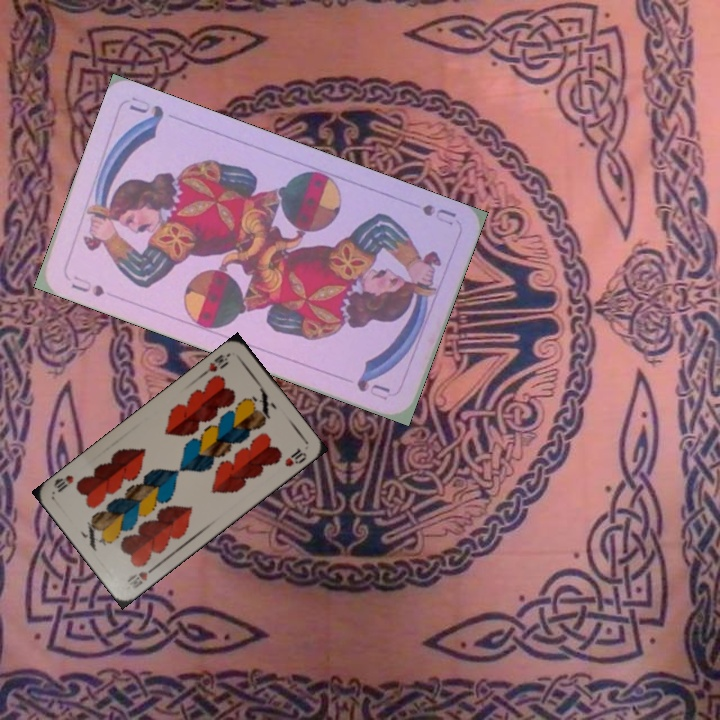H10: (123, 561, 159, 591), (198, 349, 233, 378)
SU: (418, 200, 459, 229), (67, 280, 108, 300)
